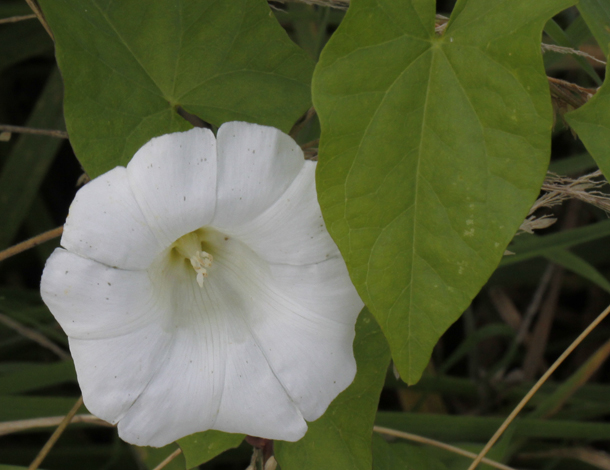haagwinde: (30, 117, 395, 451), (309, 1, 556, 401)
